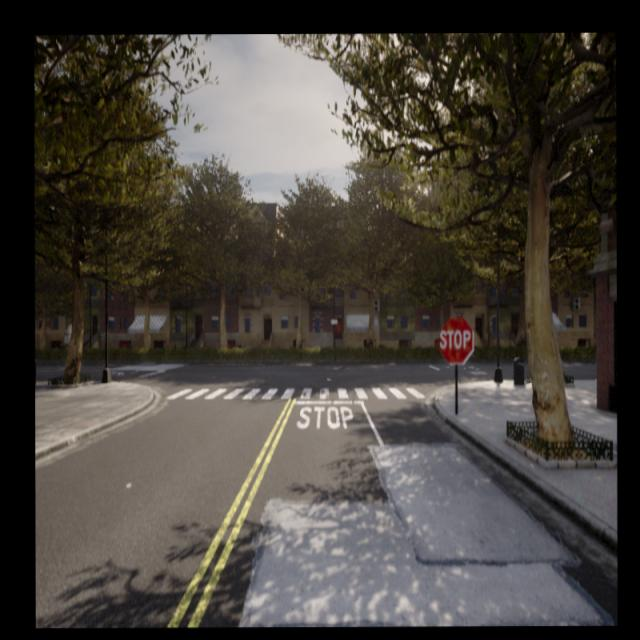stop sign: (436, 313, 476, 366), (438, 326, 472, 352)
